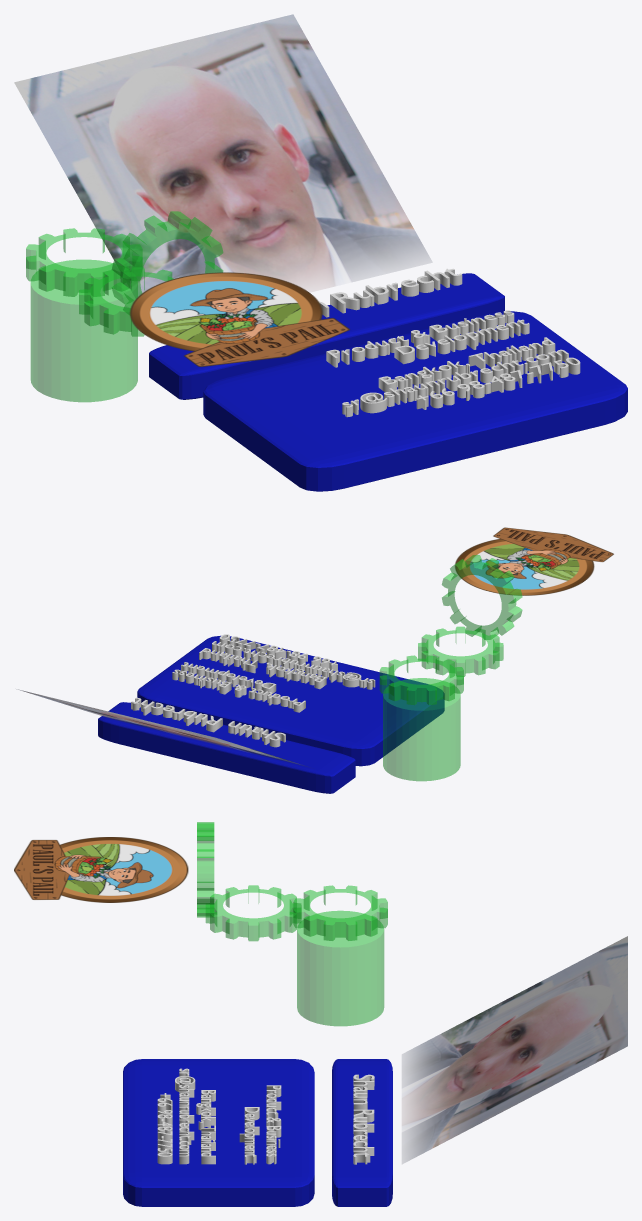
File: gears8.gltf
The picture shows the model from 3 angles, top to bottom: view 1: azimuth 30°, elevation 25°; view 2: azimuth 150°, elevation 25°; view 3: azimuth 270°, elevation 25°; orthographic projection. The views are drawn at different scales.
Visible parts, largest first — view 1: ShaunFace, Roundcube.001, PPlogo, Cylinder, text.001, Roundcube, Gear.001, Gear, Gear.002, text.002; view 2: Roundcube.001, Roundcube, PPlogo, Cylinder, text.001, Gear, Gear.002, Gear.001, text.002, ShaunFace; view 3: ShaunFace, Roundcube.001, PPlogo, Cylinder, Roundcube, text.001, Gear.001, Gear.002, Gear, text.002.
Boxes of the visible parts, box(x1,y1,x2,y2) form: ShaunFace: box(14, 14, 431, 296); Roundcube.001: box(203, 311, 627, 491); PPlogo: box(130, 272, 349, 366); Cylinder: box(30, 259, 137, 402); text.001: box(326, 310, 580, 417); Roundcube: box(149, 273, 504, 399); Gear.001: box(26, 228, 142, 296); Gear: box(111, 211, 223, 315); Gear.002: box(79, 267, 173, 336); text.002: box(319, 268, 462, 317); Roundcube.001: box(137, 635, 444, 766); Roundcube: box(98, 702, 355, 793); PPlogo: box(455, 527, 613, 595); Cylinder: box(383, 678, 460, 781); text.001: box(172, 634, 375, 712); Gear: box(442, 555, 522, 639); Gear.002: box(418, 626, 503, 676); Gear.001: box(379, 655, 463, 705); text.002: box(131, 697, 285, 747); ShaunFace: box(16, 689, 307, 766); ShaunFace: box(402, 936, 627, 1163); Roundcube.001: box(123, 1059, 314, 1206); PPlogo: box(14, 837, 188, 902); Cylinder: box(297, 910, 384, 1026); Roundcube: box(332, 1059, 392, 1206); text.001: box(157, 1068, 281, 1164); Gear.001: box(293, 885, 387, 940); Gear.002: box(205, 885, 301, 941); Gear: box(197, 822, 214, 917); text.002: box(353, 1074, 374, 1164).
Bounding box in the file's own units: 10.79 × 5.49 × 14.1.
Materials: 5 (2 with a texture image).
